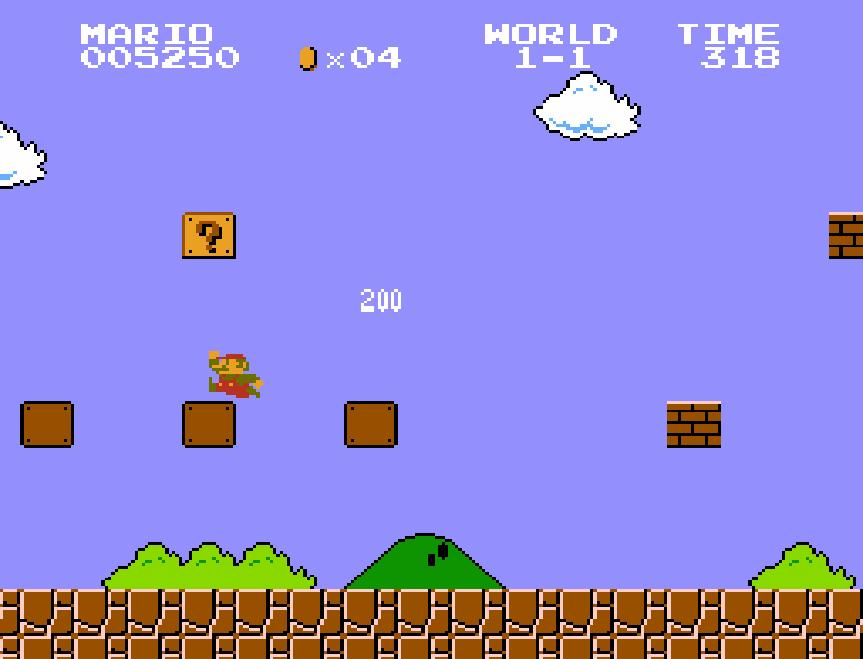little_mario: (206, 349, 264, 399)
